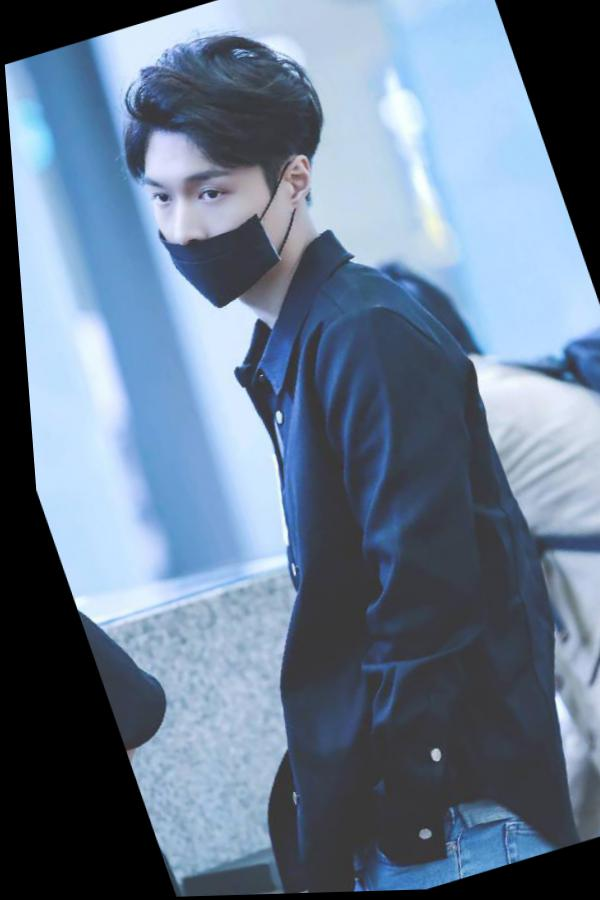WRONG: (129, 132, 295, 320)
